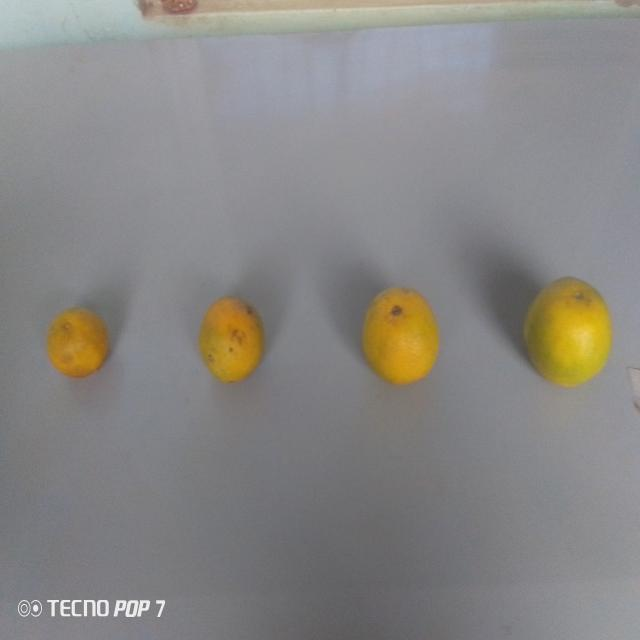Ripe orange: (518, 271, 620, 404), (358, 278, 443, 399), (195, 293, 269, 389), (38, 301, 116, 384)
